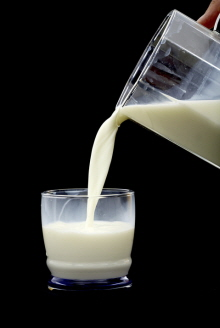glass of milk: (42, 175, 134, 289)
